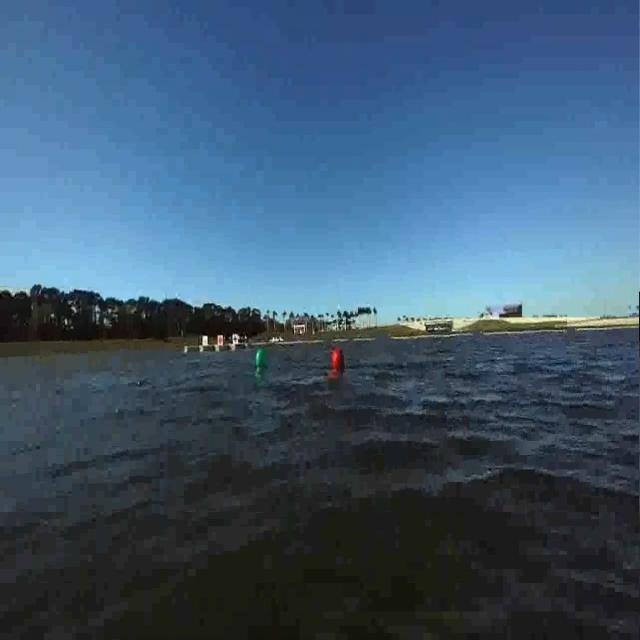green-buoy: (248, 340, 269, 384)
red-buoy: (324, 346, 358, 388)
